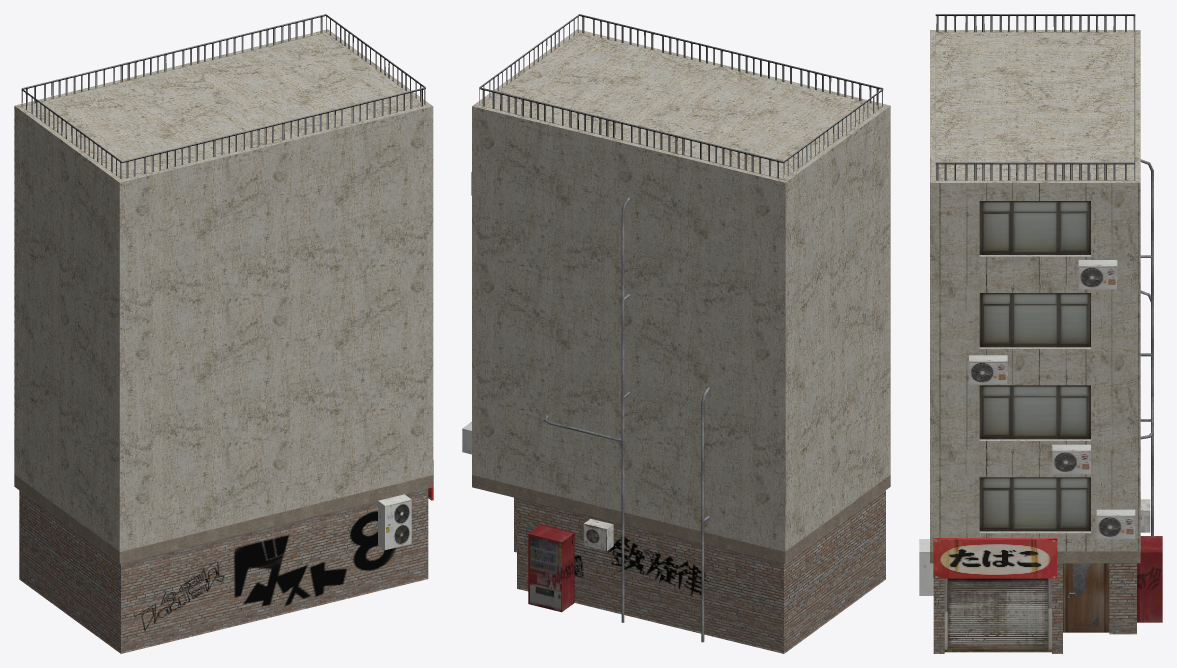
File: apartment.fbx
3 views of the same model, side by side, from view 1: azimuth 30°, elevation 25°; view 2: azimuth 150°, elevation 25°; view 3: azimuth 270°, elevation 25° (orthographic).
Visible parts, largest first — view 1: PSX Japanese Apartment, AC#1; view 2: PSX Japanese Apartment, PSX Vending Machine, AC#5; view 3: PSX Japanese Apartment, PSX Vending Machine, AC#3, AC#2, AC#6, AC#4, AC#1, AC#5.
Part boxes in pixels (x1=…): PSX Japanese Apartment: x1=14, y1=14, x2=433, y2=653; AC#1: x1=378, y1=494, x2=411, y2=550; PSX Japanese Apartment: x1=472, y1=14, x2=890, y2=653; PSX Vending Machine: x1=528, y1=524, x2=574, y2=612; AC#5: x1=583, y1=519, x2=613, y2=550; PSX Japanese Apartment: x1=930, y1=14, x2=1153, y2=653; PSX Vending Machine: x1=1137, y1=536, x2=1162, y2=622; AC#3: x1=1096, y1=509, x2=1135, y2=539; AC#2: x1=1052, y1=444, x2=1090, y2=474; AC#6: x1=1078, y1=260, x2=1117, y2=289; AC#4: x1=969, y1=355, x2=1007, y2=384; AC#1: x1=919, y1=539, x2=933, y2=595; AC#5: x1=1140, y1=499, x2=1150, y2=532.
Size of the model in its own units: 739 by 1066 by 479.
Materials: 3 (3 with a texture image).
